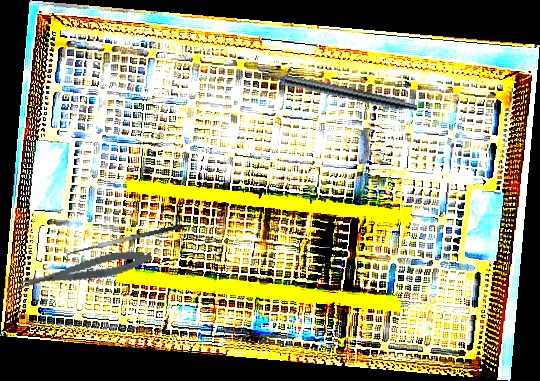Handpiece: (254, 65, 419, 114)
Micro Scissor: (11, 244, 155, 296)
Spatula Surgical: (62, 223, 186, 264)
